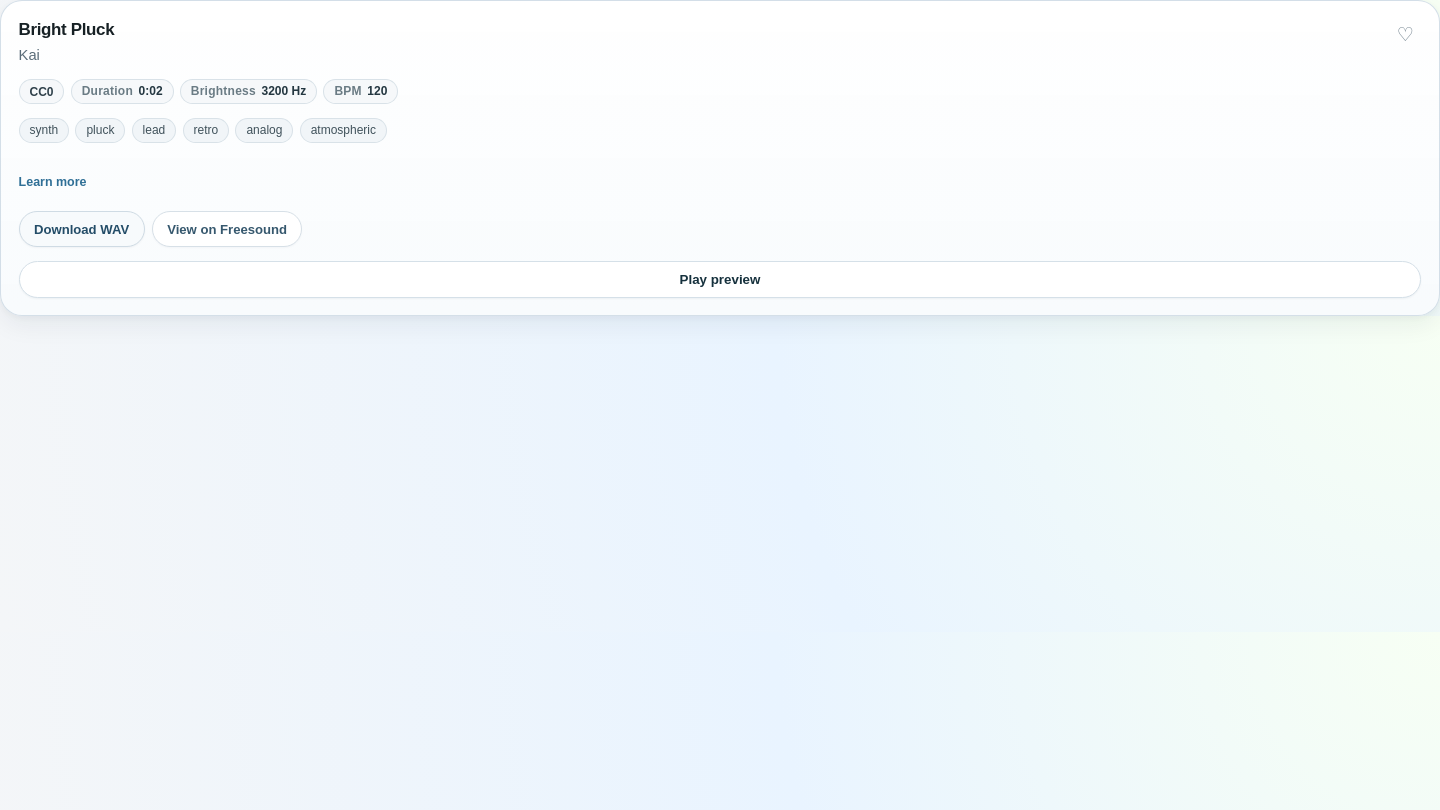
SoundCard › only shows learn more when tags overflow and toggles expansion
The image size is (1440, 810).
Step 1. Click the button "Learn more" → [53, 182], box top-left (19, 167), bottom-right (86, 198)
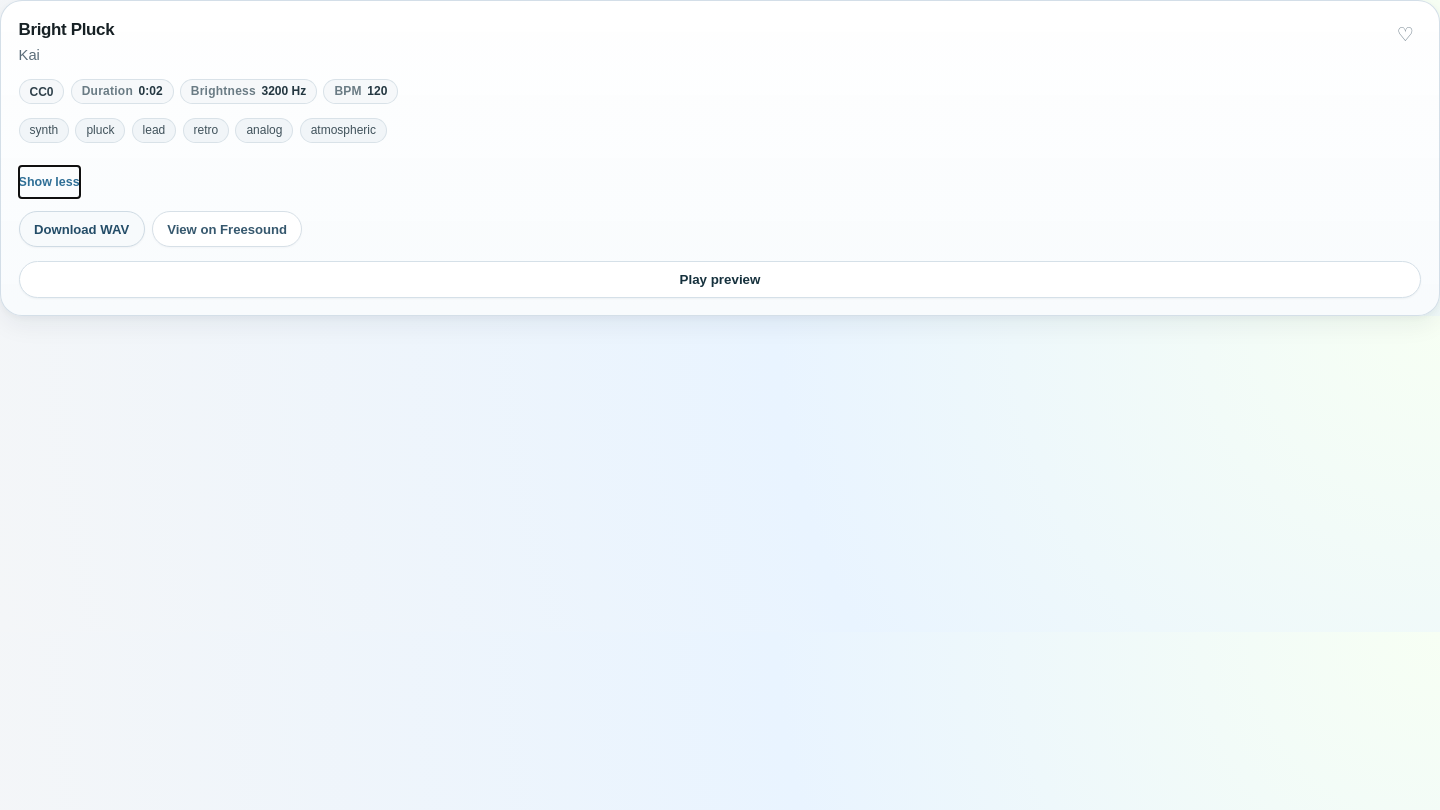
Expected: the button "Show less" is shown, top-left (19, 166), bottom-right (80, 198)
